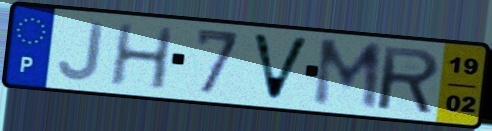7: (193, 26, 243, 97)
H: (106, 22, 176, 93)
J: (55, 20, 107, 83)
M: (309, 36, 386, 114)
R: (377, 44, 443, 117)
V: (248, 30, 314, 104)
